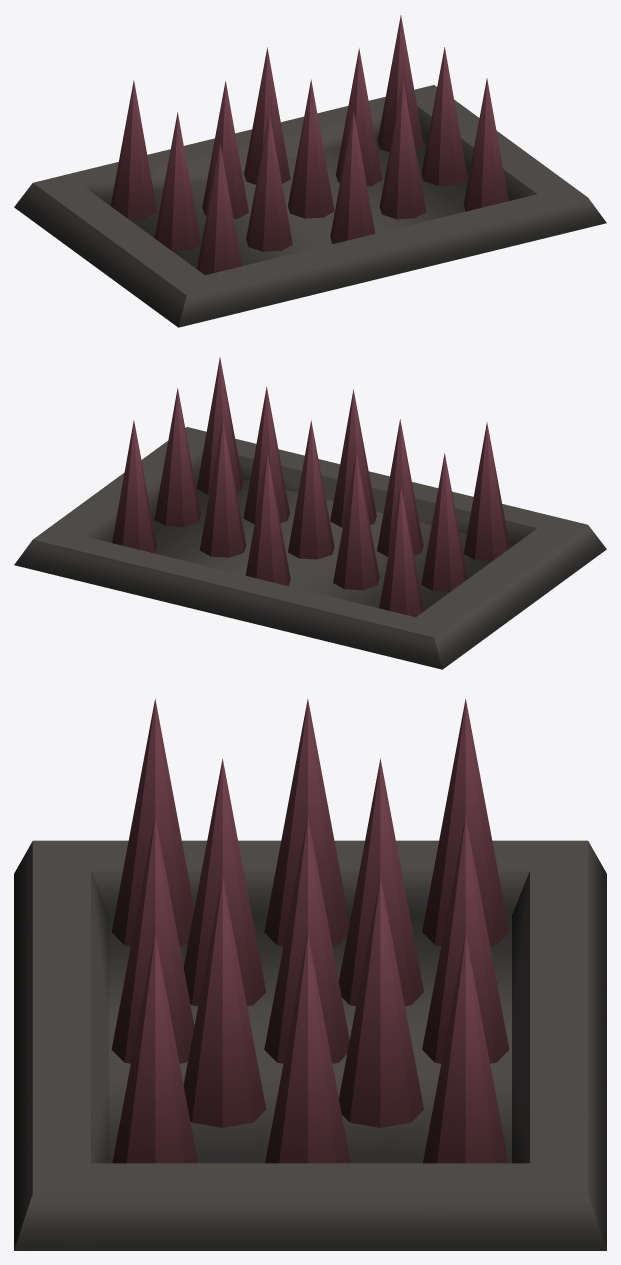
The model's file is Trap Spike.fbx.
The picture shows the model from 3 angles, top to bottom: view 1: azimuth 30°, elevation 25°; view 2: azimuth 150°, elevation 25°; view 3: azimuth 270°, elevation 25°; orthographic projection. The views are drawn at different scales.
Parts seen in each view (by area): view 1: Trap_Floor_Base, Trap_Floor_Spikes; view 2: Trap_Floor_Base, Trap_Floor_Spikes; view 3: Trap_Floor_Base, Trap_Floor_Spikes.
Part boxes in pixels (x1,y1,x2,y2): Trap_Floor_Base: (14,85,606,327); Trap_Floor_Spikes: (110,15,508,275); Trap_Floor_Base: (14,427,606,669); Trap_Floor_Spikes: (112,357,510,617); Trap_Floor_Base: (14,840,606,1250); Trap_Floor_Spikes: (111,698,509,1163).
Bounding box in the file's own units: 4.38 × 1.34 × 2.91.
